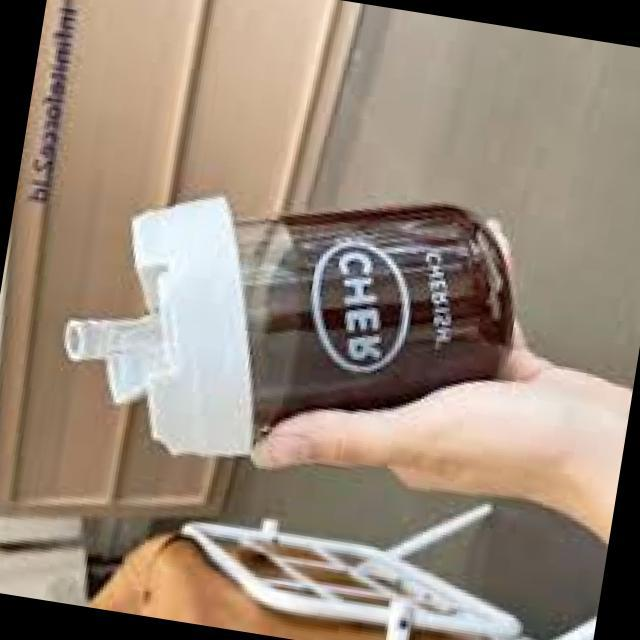good: (19, 160, 532, 490)
